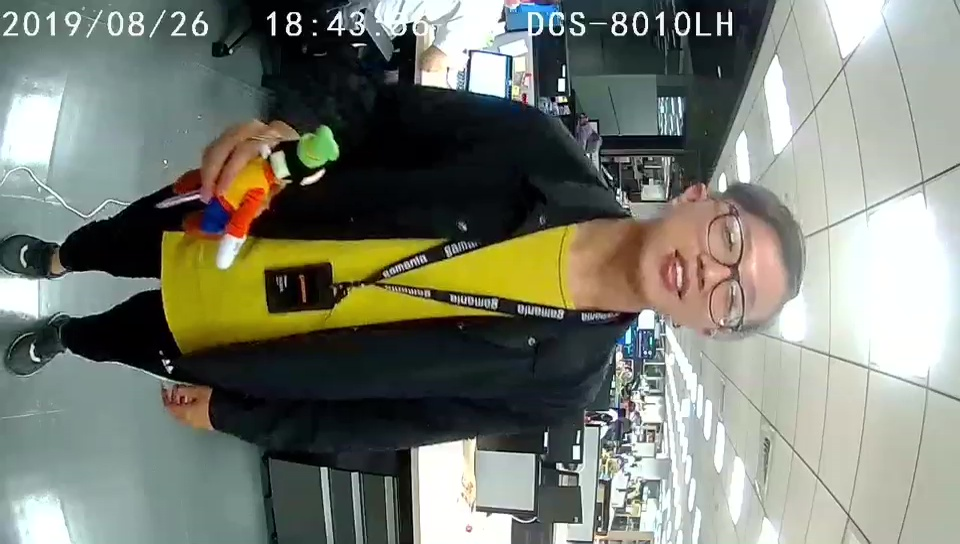goofy: (182, 124, 341, 271)
